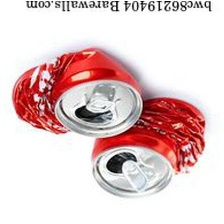can: (5, 44, 146, 145), (85, 92, 210, 202)
